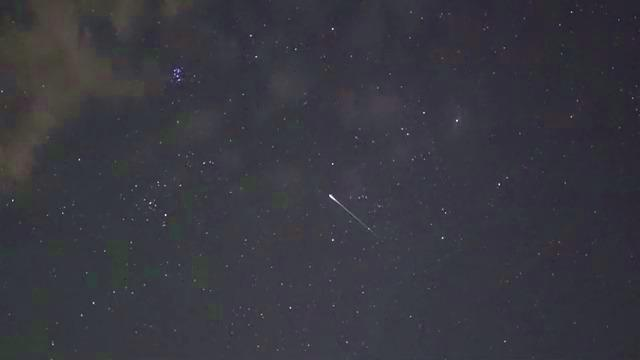meteorite: (311, 191, 391, 236)
